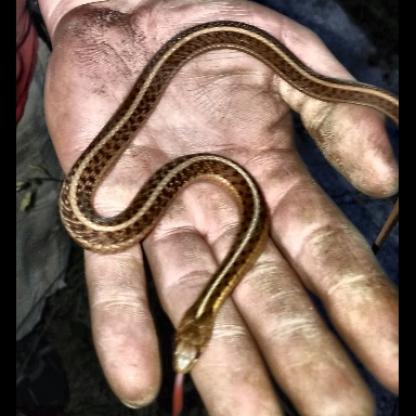Snake: (54, 16, 400, 410)
